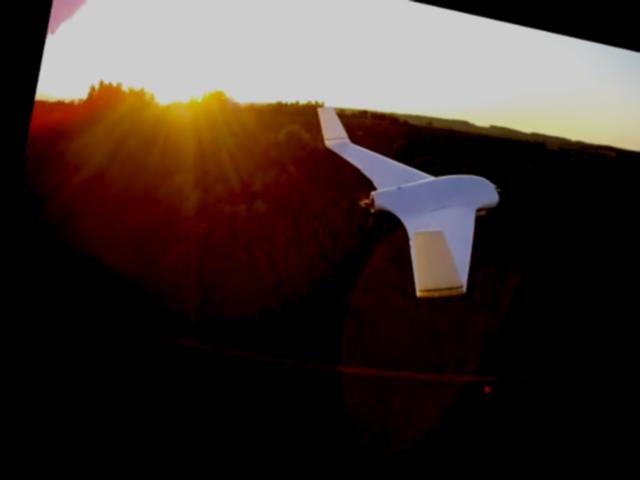plane: (272, 100, 517, 321)
